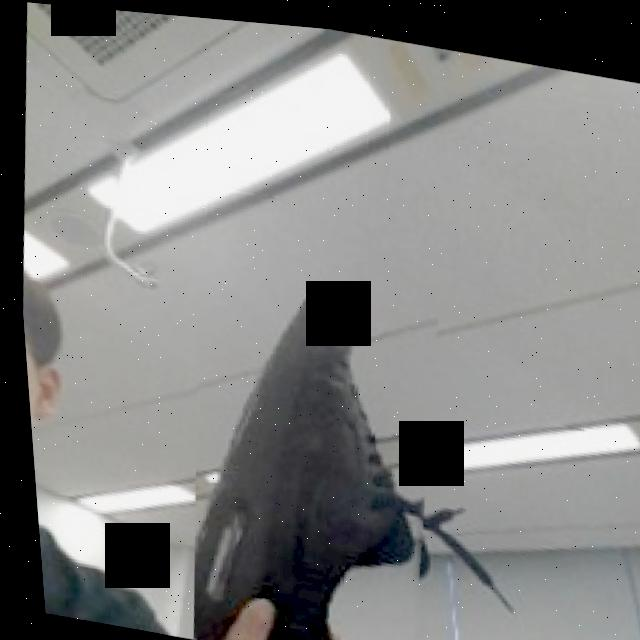shoe: (161, 254, 457, 640)
